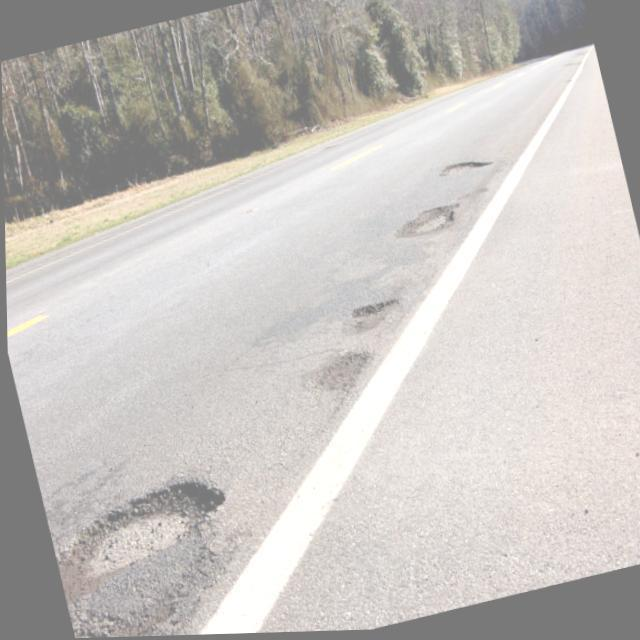Pothole: (54, 475, 221, 639), (306, 353, 367, 393), (395, 206, 453, 242), (351, 302, 400, 333), (441, 163, 489, 180)
